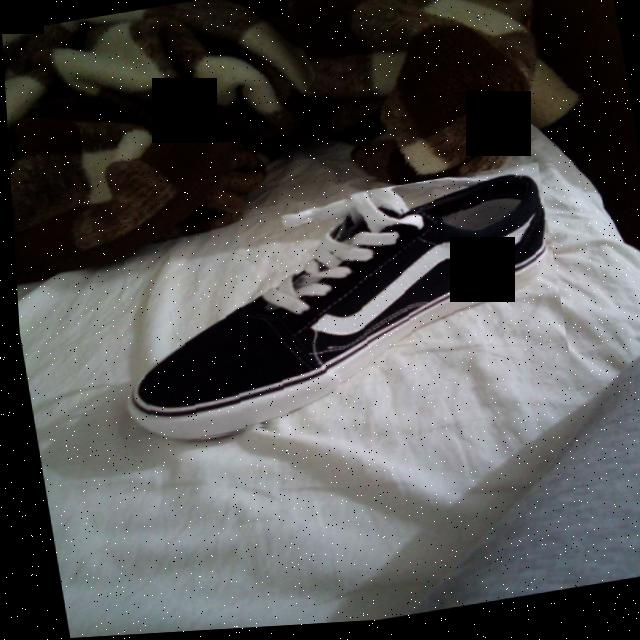shoe: (91, 167, 570, 454)
